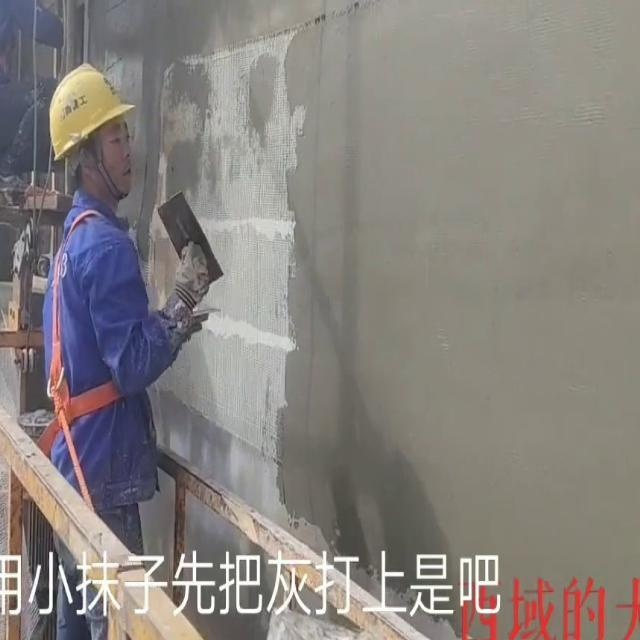Arnes_seguridad: (40, 201, 143, 434)
